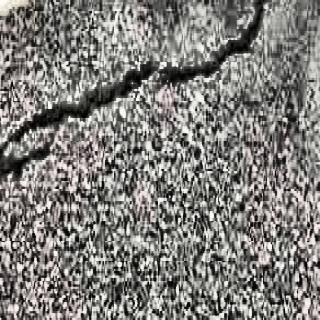crack: (0, 0, 268, 180)
